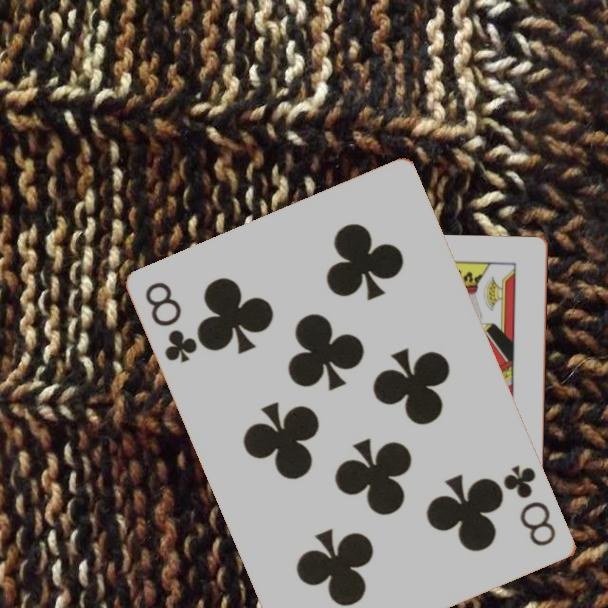c08: (500, 461, 560, 550), (142, 278, 201, 366)
